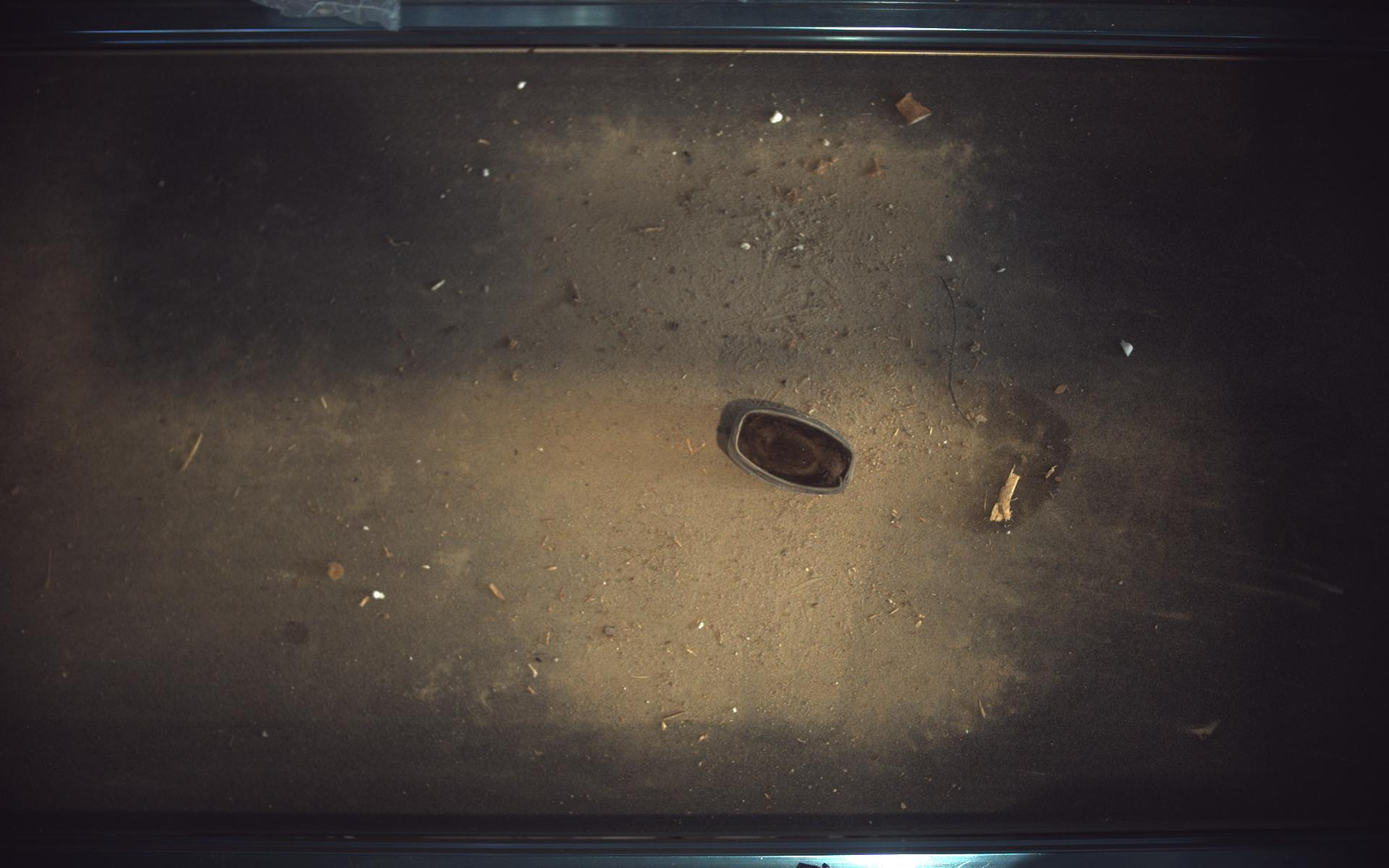general_w: (728, 403, 857, 495)
